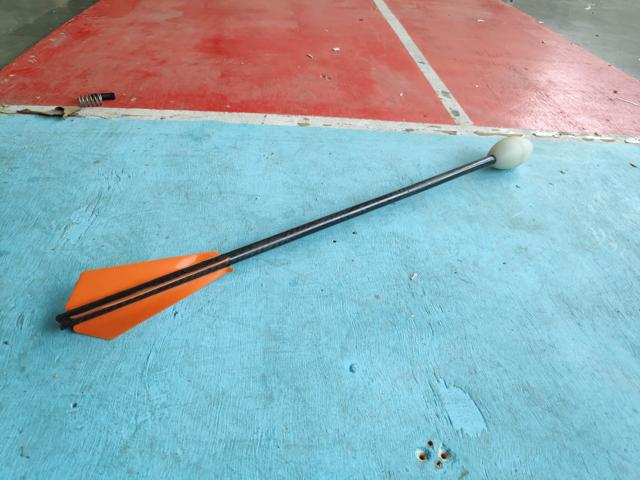Head: (484, 134, 535, 171)
Tail: (52, 247, 233, 344)
